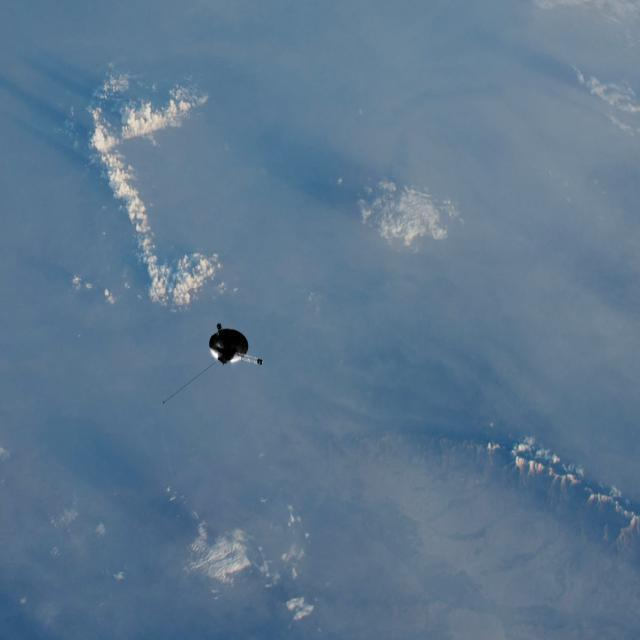satellite: (187, 304, 269, 379)
